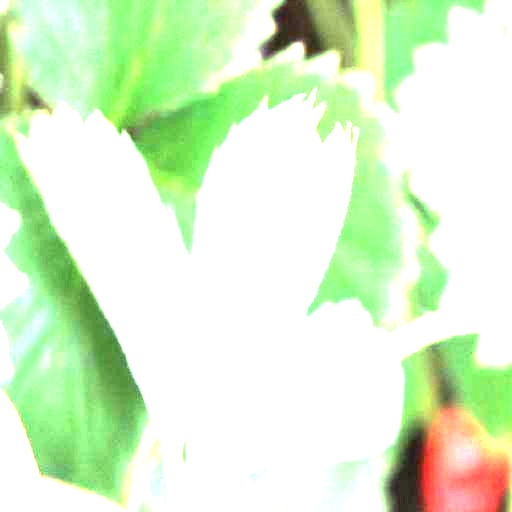Powdery Mildew Leaf: (183, 85, 359, 487), (11, 101, 191, 480), (196, 299, 408, 511)
